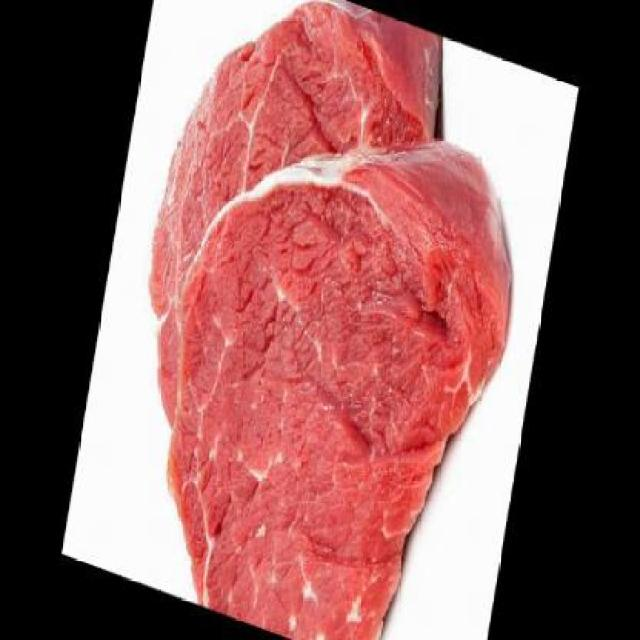beaf: (97, 0, 553, 638)
